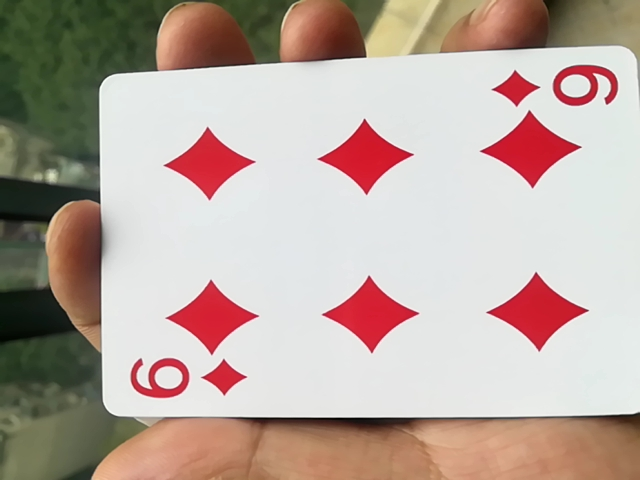fk 6: (76, 65, 633, 443)
